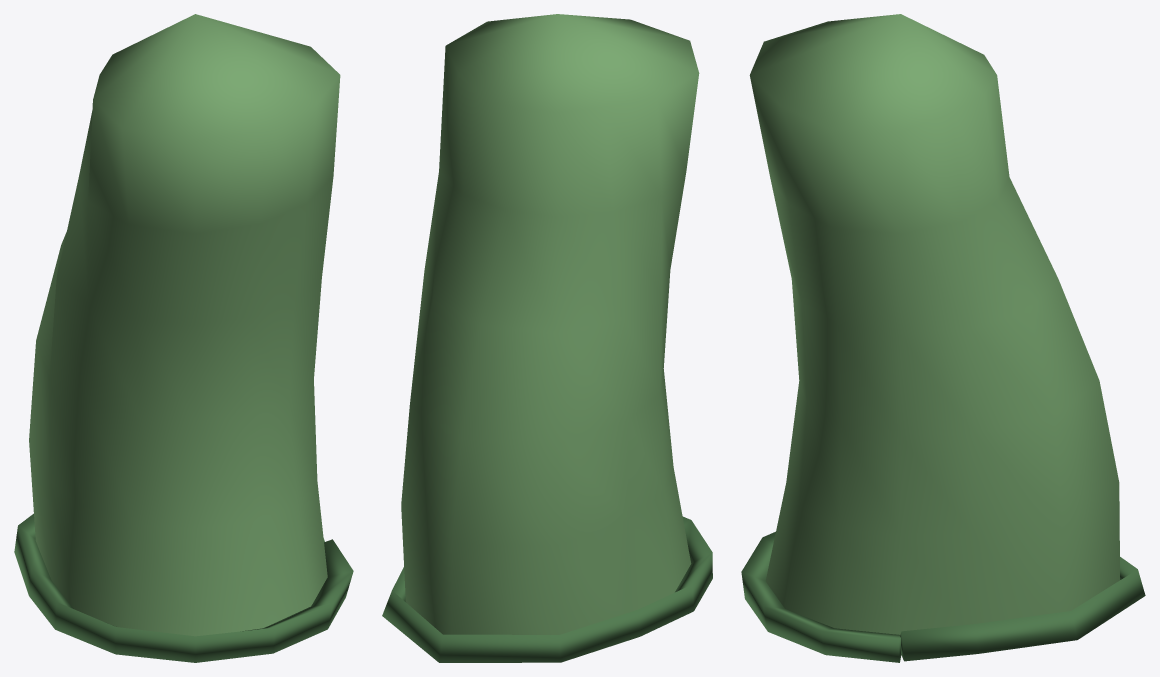
The model's file is tungsten_armor_boot.R.glb.
3 renders of one model, left to right at view 1: azimuth 30°, elevation 25°; view 2: azimuth 150°, elevation 25°; view 3: azimuth 270°, elevation 25°, orthographic. The views are drawn at different scales.
Parts seen in each view (by area): view 1: tungsten_armor_boot.R; view 2: tungsten_armor_boot.R; view 3: tungsten_armor_boot.R.
Boxes of the visible parts, x1,y1,x2,y2 form: tungsten_armor_boot.R: (14,14,353,662); tungsten_armor_boot.R: (382,14,712,662); tungsten_armor_boot.R: (741,14,1145,662).
Bounding box in the file's own units: 0.147 × 0.2958 × 0.1849.
